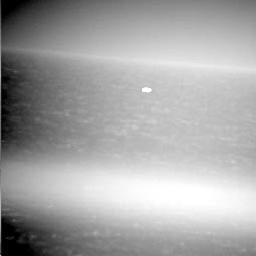Target: (140, 86, 153, 95)
